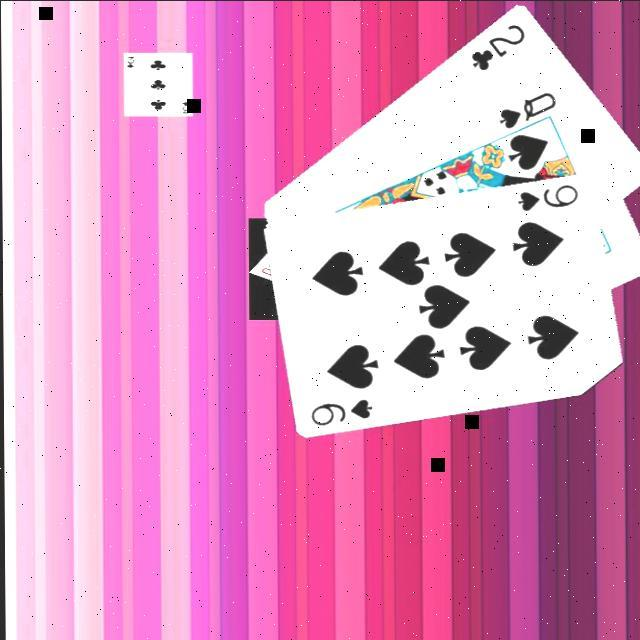2C: (466, 17, 528, 72)
9S: (306, 392, 374, 427), (512, 178, 580, 212)
QS: (492, 86, 558, 130)
